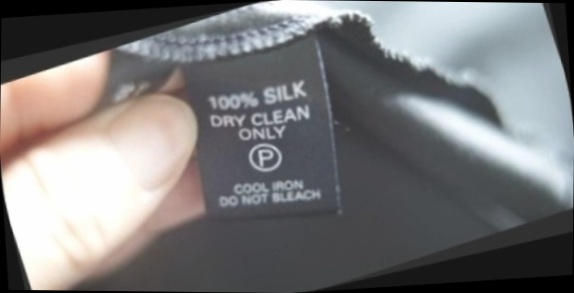dry_clean_any_solvent_except_trichloroethylene: (241, 132, 292, 181)
